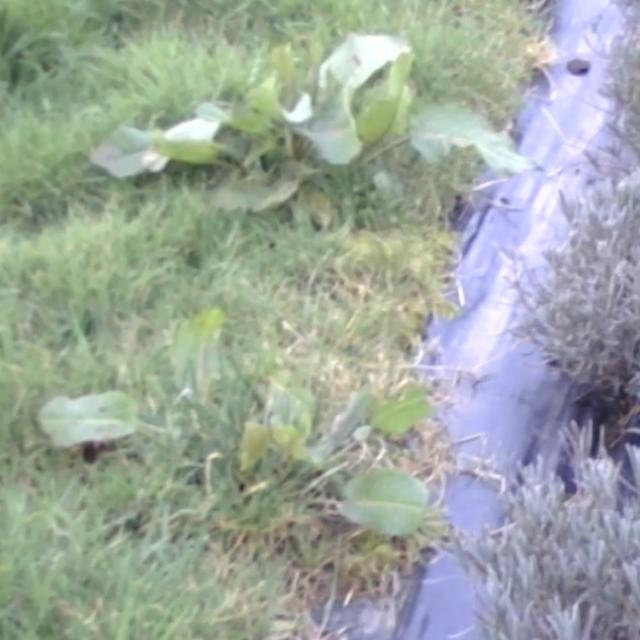organic waste: (24, 307, 471, 574), (97, 43, 544, 222)
